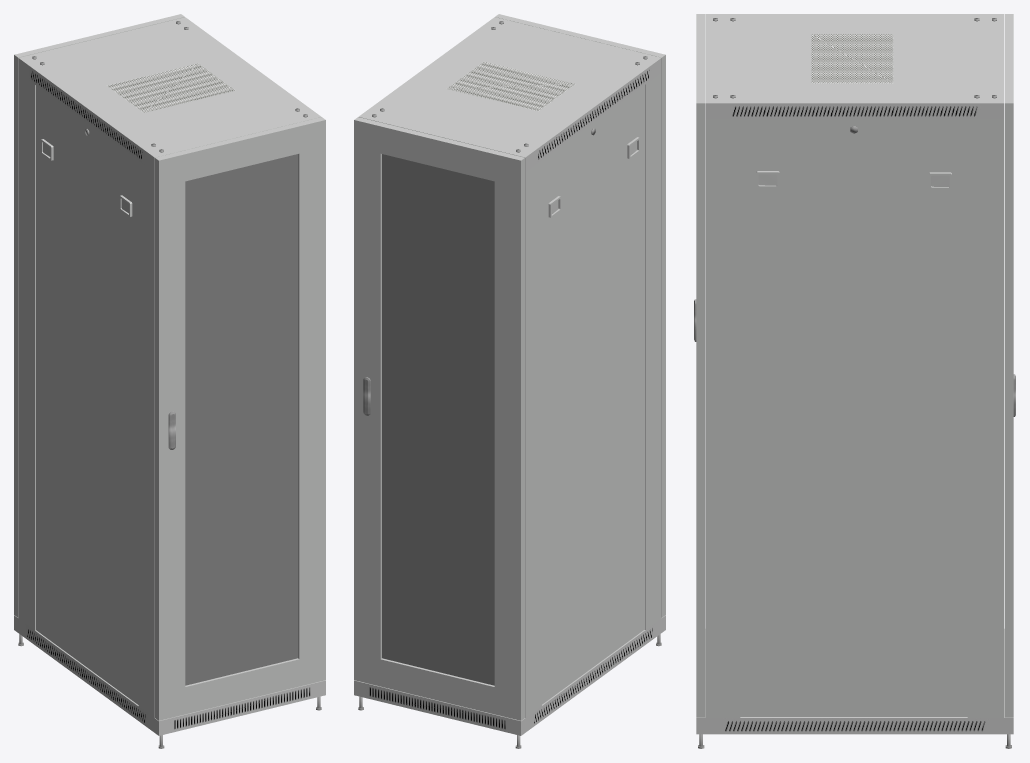
Rendered from RKAG41.fbx.
The picture shows the model from 3 angles, left to right: view 1: azimuth 30°, elevation 25°; view 2: azimuth 150°, elevation 25°; view 3: azimuth 270°, elevation 25°; orthographic projection. The views are drawn at different scales.
Parts seen in each view (by area): view 1: frontdoor, RKAG41, Box151, backdoor; view 2: backdoor, RKAG41, Box151, frontdoor; view 3: RKAG41, Box151, frontdoor, backdoor.
Part boxes in pixels (left/top/right/bottom): frontdoor: left=155, top=117, right=325, bottom=720; RKAG41: left=36, top=85, right=138, bottom=704; Box151: left=14, top=17, right=325, bottom=748; backdoor: left=14, top=14, right=184, bottom=617; backdoor: left=354, top=117, right=524, bottom=720; RKAG41: left=542, top=85, right=644, bottom=704; Box151: left=354, top=17, right=665, bottom=748; frontdoor: left=495, top=14, right=665, bottom=617; RKAG41: left=740, top=119, right=967, bottom=716; Box151: left=696, top=14, right=1013, bottom=748; frontdoor: left=694, top=14, right=704, bottom=717; backdoor: left=1005, top=14, right=1015, bottom=717.
Bounding box in the file's own units: 610 × 2028 × 913.
6 materials, 5 textured.
